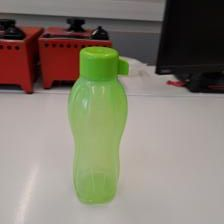bottle: (67, 43, 130, 205)
